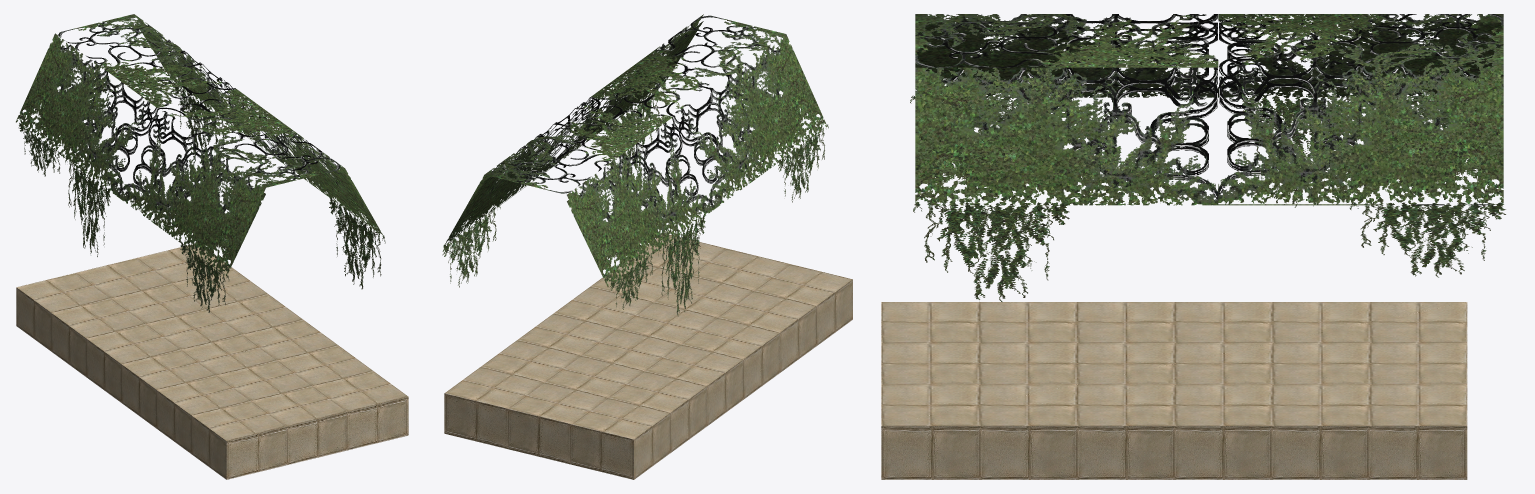
The model's file is thm_nboo_imprv_arbor_long_s02_l1.fbx.
3 renders of one model, left to right at view 1: azimuth 30°, elevation 25°; view 2: azimuth 150°, elevation 25°; view 3: azimuth 270°, elevation 25°, orthographic. The views are drawn at different scales.
Parts seen in each view (by area): view 1: mesh_node; view 2: mesh_node; view 3: mesh_node.
Boxes of the visible parts, left/top/right/bottom form: mesh_node: left=16, top=14, right=408, bottom=479; mesh_node: left=442, top=14, right=852, bottom=479; mesh_node: left=881, top=14, right=1505, bottom=479.
Bounding box in the file's own units: 4 × 5.68 × 8.73.
3 materials, 3 textured.
